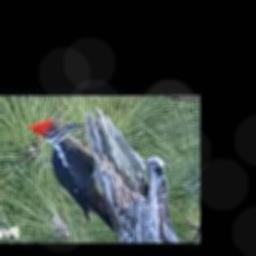Woodpecker: (29, 119, 118, 235)
